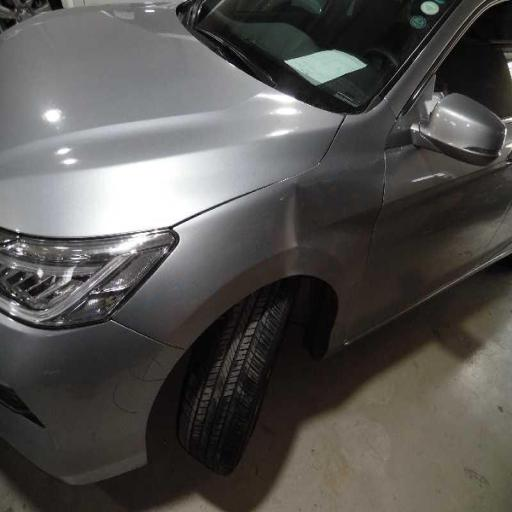broken: (350, 142, 398, 296)
dent: (258, 164, 322, 281)
scratch: (87, 359, 167, 458)
